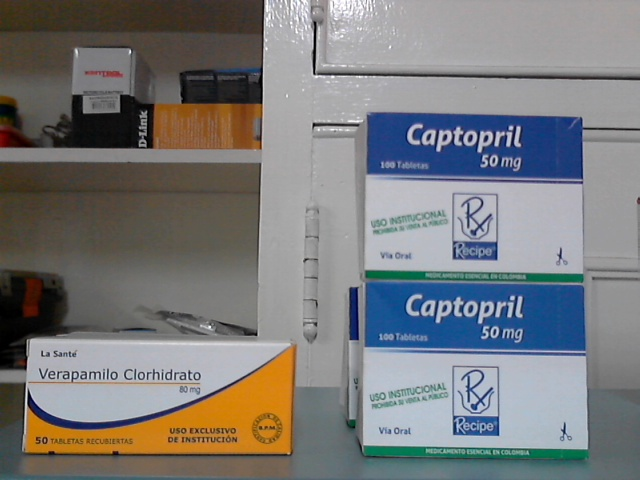LaSante: (30, 339, 292, 455)
